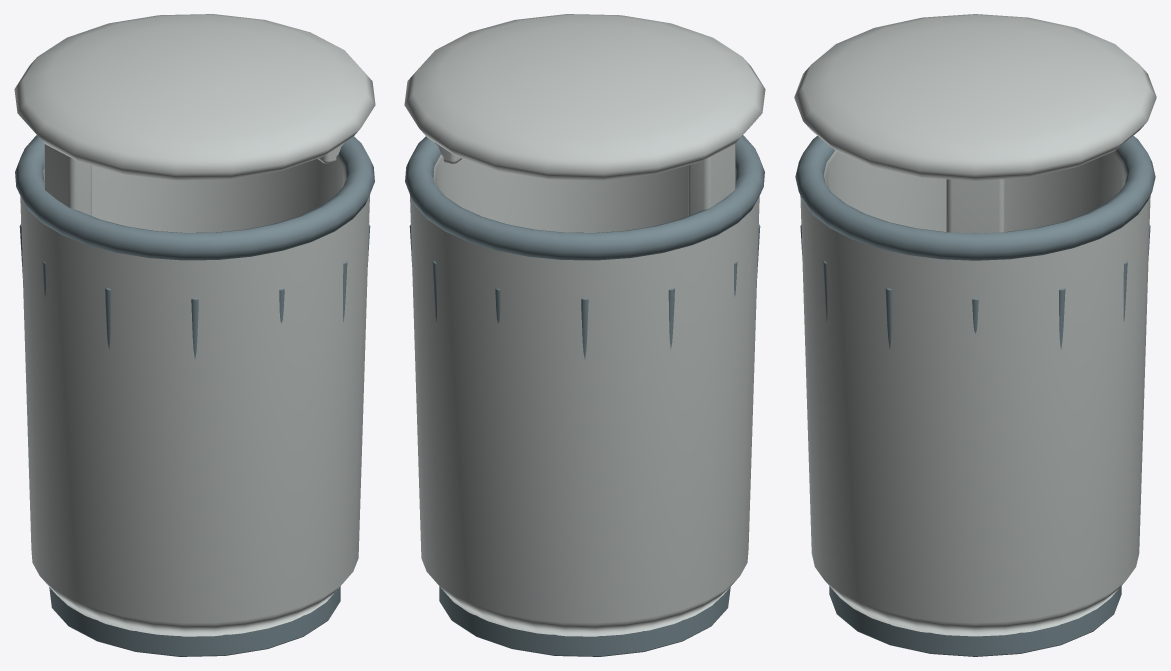
File: trash-bin.glb
The picture shows the model from 3 angles, left to right: view 1: azimuth 30°, elevation 25°; view 2: azimuth 150°, elevation 25°; view 3: azimuth 270°, elevation 25°; orthographic projection.
Parts seen in each view (by area): view 1: body, hood, top_rim, base, hood_support; view 2: body, hood, top_rim, base, hood_support; view 3: body, hood, top_rim, base, hood_support.001.
Boxes of the visible parts, left/top/right/bottom form: body: left=20, top=154, right=369, bottom=636; hood: left=14, top=14, right=375, bottom=180; top_rim: left=15, top=135, right=374, bottom=260; base: left=49, top=586, right=340, bottom=656; hood_support: left=44, top=143, right=91, bottom=215; body: left=410, top=154, right=759, bottom=636; hood: left=404, top=14, right=765, bottom=180; top_rim: left=405, top=135, right=764, bottom=260; base: left=439, top=586, right=730, bottom=656; hood_support: left=688, top=143, right=735, bottom=215; body: left=800, top=150, right=1150, bottom=636; hood: left=794, top=14, right=1156, bottom=180; top_rim: left=795, top=136, right=1155, bottom=260; base: left=829, top=586, right=1121, bottom=656; hood_support.001: left=946, top=179, right=1004, bottom=233.
Bounding box in the file's own units: 0.62 × 1 × 0.62.
